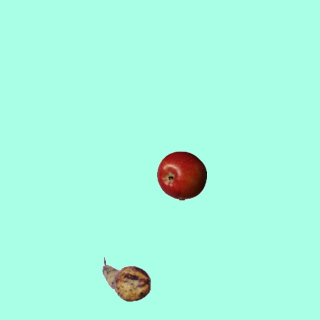Apple Braeburn: (156, 150, 206, 200)
Pear Abate: (101, 254, 151, 304)
